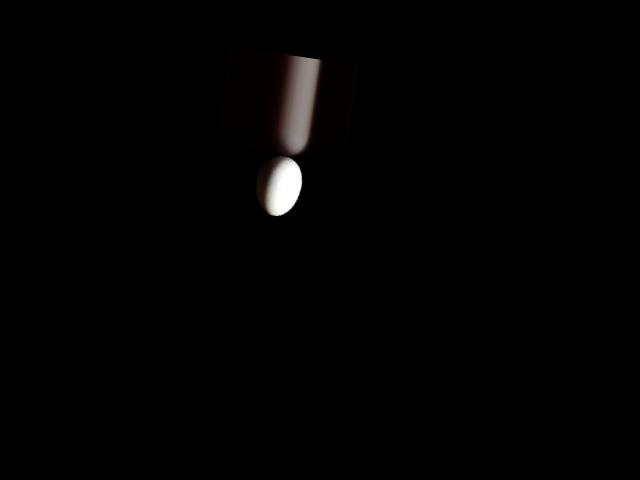egg: (252, 151, 306, 218)
